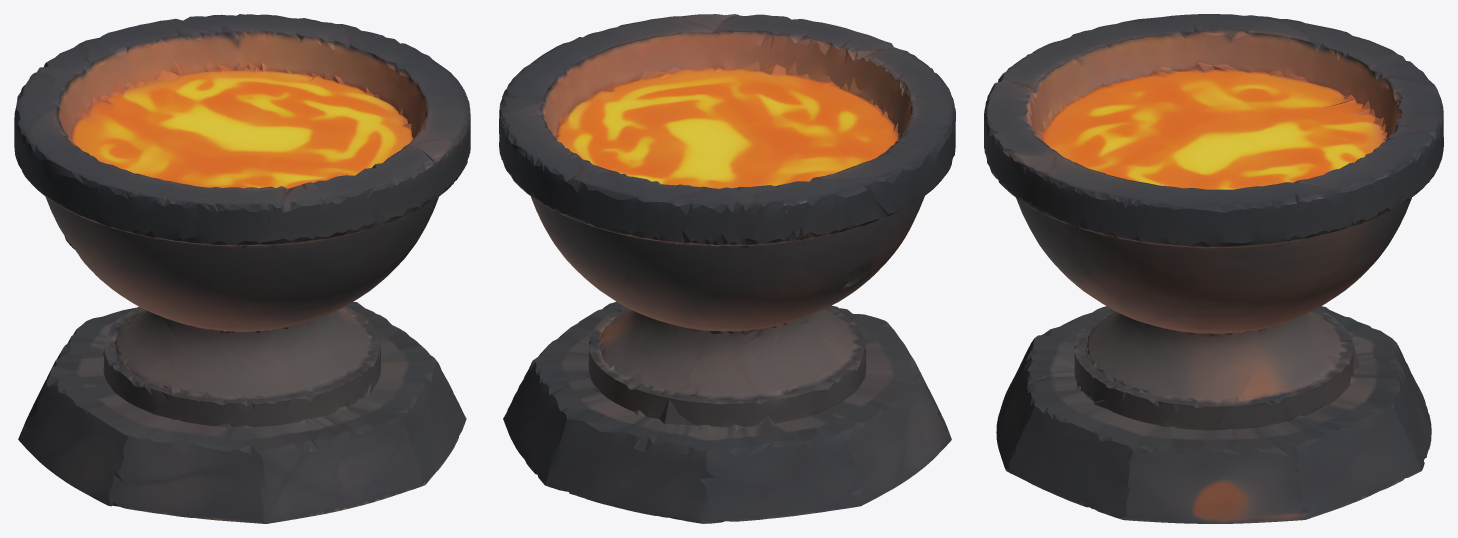
The model's file is rodin_Forge_Crucible_raw.glb.
The picture shows the model from 3 angles, left to right: view 1: azimuth 30°, elevation 25°; view 2: azimuth 150°, elevation 25°; view 3: azimuth 270°, elevation 25°; orthographic projection.
Parts seen in each view (by area): view 1: model; view 2: model; view 3: model.
Part boxes in pixels (x1,y1,x2,y2): model: [14, 14, 470, 523]; model: [499, 14, 955, 523]; model: [984, 14, 1443, 523].
Size of the model in its own units: 1.9 by 1.47 by 1.9.
1 material, 1 textured.
